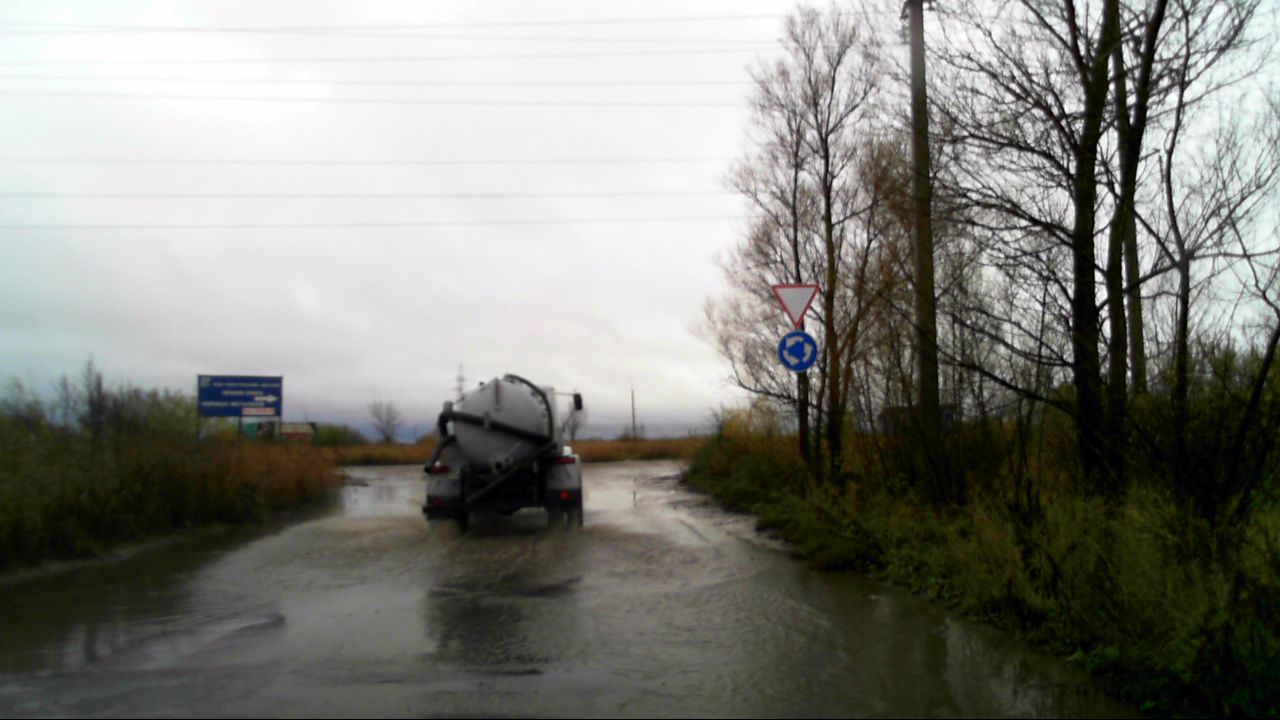Round-About: (777, 331, 817, 373)
